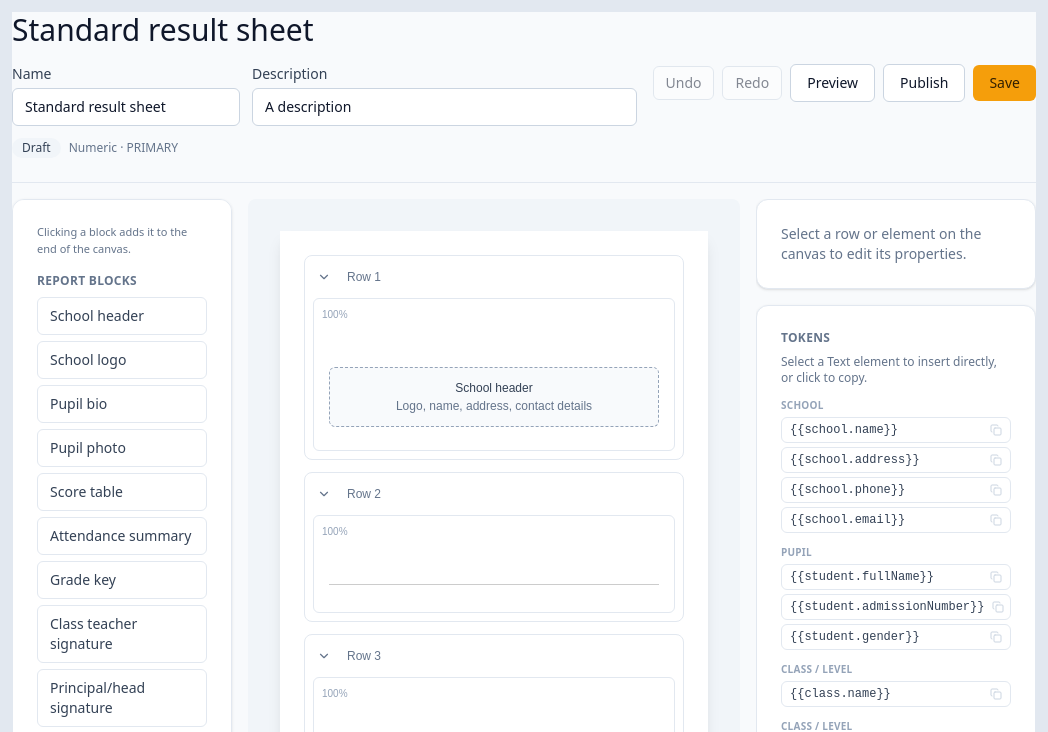
Test: TemplateDesignerPage › Save sends the current layout back to the API
The image size is (1048, 732).
Expected: the field showing "Standard result sheet" is shown, [12,88,240,126]
Click the button "Save" at (1005,83), box [973,65,1036,101]
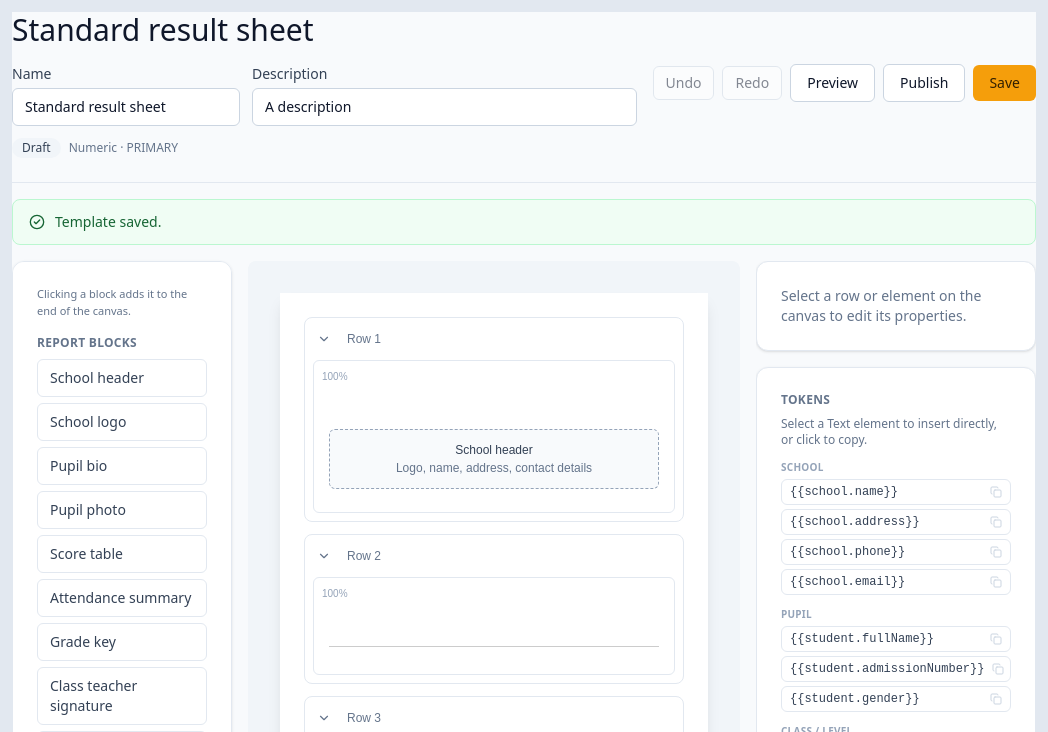
Now the text "Template saved." is shown, box [55,212,161,232]
